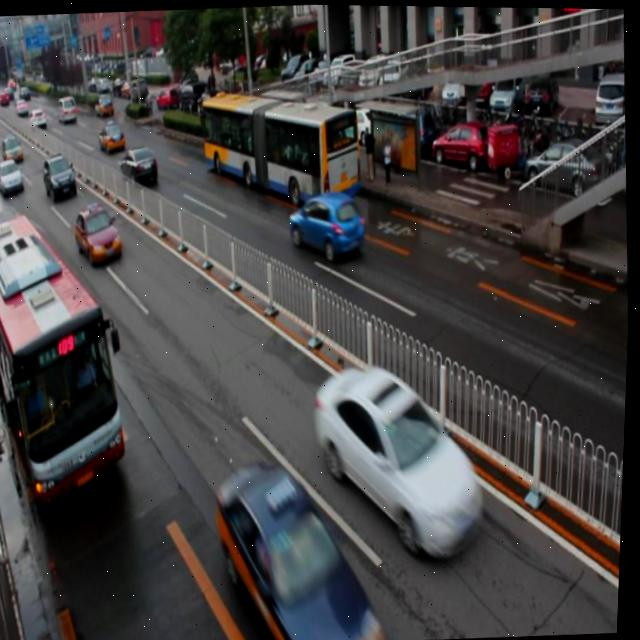car: (312, 358, 491, 560), (214, 449, 391, 640), (288, 191, 367, 261), (74, 201, 127, 268), (42, 152, 79, 202), (118, 143, 158, 183), (97, 122, 127, 154), (0, 160, 26, 196)
van: (0, 209, 140, 520), (196, 82, 366, 211)
